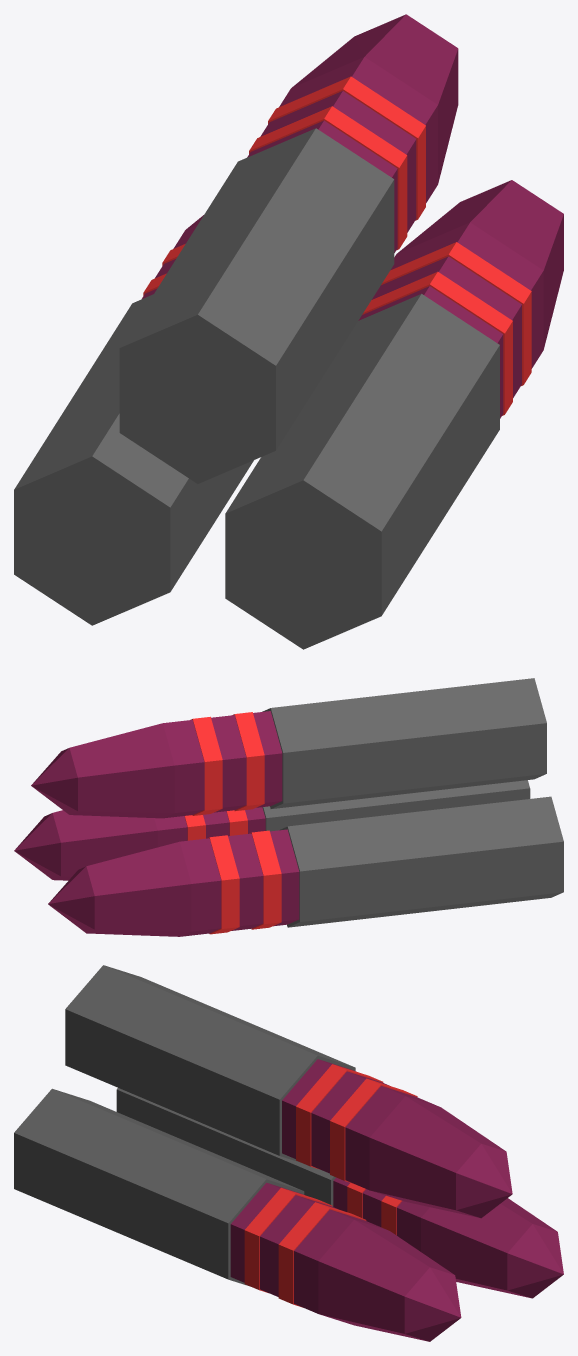
Rendered from ce_ammo2_rcl84_thermo_b.obj.
3 views of the same model, one above another, from view 1: azimuth 30°, elevation 25°; view 2: azimuth 150°, elevation 25°; view 3: azimuth 270°, elevation 25° (orthographic). The views are drawn at different scales.
Visible parts, largest first — view 1: ce_ammo2_rcl84_thermo_b_16, ce_ammo2_rcl84_thermo_b_8, ce_ammo2_rcl84_thermo_b_0, ce_ammo2_rcl84_thermo_b_14, ce_ammo2_rcl84_thermo_b_22, ce_ammo2_rcl84_thermo_b_13, ce_ammo2_rcl84_thermo_b_21, ce_ammo2_rcl84_thermo_b_19, ce_ammo2_rcl84_thermo_b_18, ce_ammo2_rcl84_thermo_b_20, ce_ammo2_rcl84_thermo_b_11, ce_ammo2_rcl84_thermo_b_10 (+3 smaller); view 2: ce_ammo2_rcl84_thermo_b_0, ce_ammo2_rcl84_thermo_b_16, ce_ammo2_rcl84_thermo_b_6, ce_ammo2_rcl84_thermo_b_22, ce_ammo2_rcl84_thermo_b_8, ce_ammo2_rcl84_thermo_b_14, ce_ammo2_rcl84_thermo_b_5, ce_ammo2_rcl84_thermo_b_21, ce_ammo2_rcl84_thermo_b_19, ce_ammo2_rcl84_thermo_b_3, ce_ammo2_rcl84_thermo_b_4, ce_ammo2_rcl84_thermo_b_2 (+12 smaller); view 3: ce_ammo2_rcl84_thermo_b_16, ce_ammo2_rcl84_thermo_b_8, ce_ammo2_rcl84_thermo_b_22, ce_ammo2_rcl84_thermo_b_14, ce_ammo2_rcl84_thermo_b_6, ce_ammo2_rcl84_thermo_b_0, ce_ammo2_rcl84_thermo_b_15, ce_ammo2_rcl84_thermo_b_7, ce_ammo2_rcl84_thermo_b_23, ce_ammo2_rcl84_thermo_b_21, ce_ammo2_rcl84_thermo_b_13, ce_ammo2_rcl84_thermo_b_11 (+11 smaller).
Part boxes in pixels (<box>): ce_ammo2_rcl84_thermo_b_16: <box>119,128,394,483</box>; ce_ammo2_rcl84_thermo_b_8: <box>225,293,499,649</box>; ce_ammo2_rcl84_thermo_b_0: <box>14,294,253,625</box>; ce_ammo2_rcl84_thermo_b_14: <box>397,180,563,349</box>; ce_ammo2_rcl84_thermo_b_22: <box>292,14,458,183</box>; ce_ammo2_rcl84_thermo_b_13: <box>390,222,543,368</box>; ce_ammo2_rcl84_thermo_b_21: <box>279,57,437,202</box>; ce_ammo2_rcl84_thermo_b_19: <box>260,91,416,232</box>; ce_ammo2_rcl84_thermo_b_18: <box>249,106,407,249</box>; ce_ammo2_rcl84_thermo_b_20: <box>268,76,425,220</box>; ce_ammo2_rcl84_thermo_b_11: <box>372,256,521,397</box>; ce_ammo2_rcl84_thermo_b_10: <box>362,271,512,415</box>; ce_ammo2_rcl84_thermo_b_0: <box>279,796,563,927</box>; ce_ammo2_rcl84_thermo_b_16: <box>262,678,546,808</box>; ce_ammo2_rcl84_thermo_b_6: <box>86,841,191,936</box>; ce_ammo2_rcl84_thermo_b_22: <box>69,723,174,818</box>; ce_ammo2_rcl84_thermo_b_8: <box>262,780,530,831</box>; ce_ammo2_rcl84_thermo_b_14: <box>52,810,157,880</box>; ce_ammo2_rcl84_thermo_b_5: <box>180,838,221,936</box>; ce_ammo2_rcl84_thermo_b_21: <box>163,720,204,818</box>; ce_ammo2_rcl84_thermo_b_19: <box>211,715,246,812</box>; ce_ammo2_rcl84_thermo_b_3: <box>228,833,263,930</box>; ce_ammo2_rcl84_thermo_b_4: <box>207,835,239,934</box>; ce_ammo2_rcl84_thermo_b_2: <box>249,830,281,929</box>; ce_ammo2_rcl84_thermo_b_16: <box>65,965,355,1162</box>; ce_ammo2_rcl84_thermo_b_8: <box>14,1088,304,1286</box>; ce_ammo2_rcl84_thermo_b_22: <box>369,1096,505,1217</box>; ce_ammo2_rcl84_thermo_b_14: <box>318,1219,454,1341</box>; ce_ammo2_rcl84_thermo_b_6: <box>421,1198,556,1297</box>; ce_ammo2_rcl84_thermo_b_0: <box>116,1088,335,1206</box>; ce_ammo2_rcl84_thermo_b_15: <box>404,1267,461,1341</box>; ce_ammo2_rcl84_thermo_b_7: <box>507,1224,563,1298</box>; ce_ammo2_rcl84_thermo_b_23: <box>456,1143,512,1218</box>; ce_ammo2_rcl84_thermo_b_21: <box>345,1086,439,1190</box>; ce_ammo2_rcl84_thermo_b_13: <box>294,1209,387,1313</box>; ce_ammo2_rcl84_thermo_b_11: <box>260,1195,338,1296</box>.
Size of the model in its own units: 0.758 by 0.326 by 0.758.
